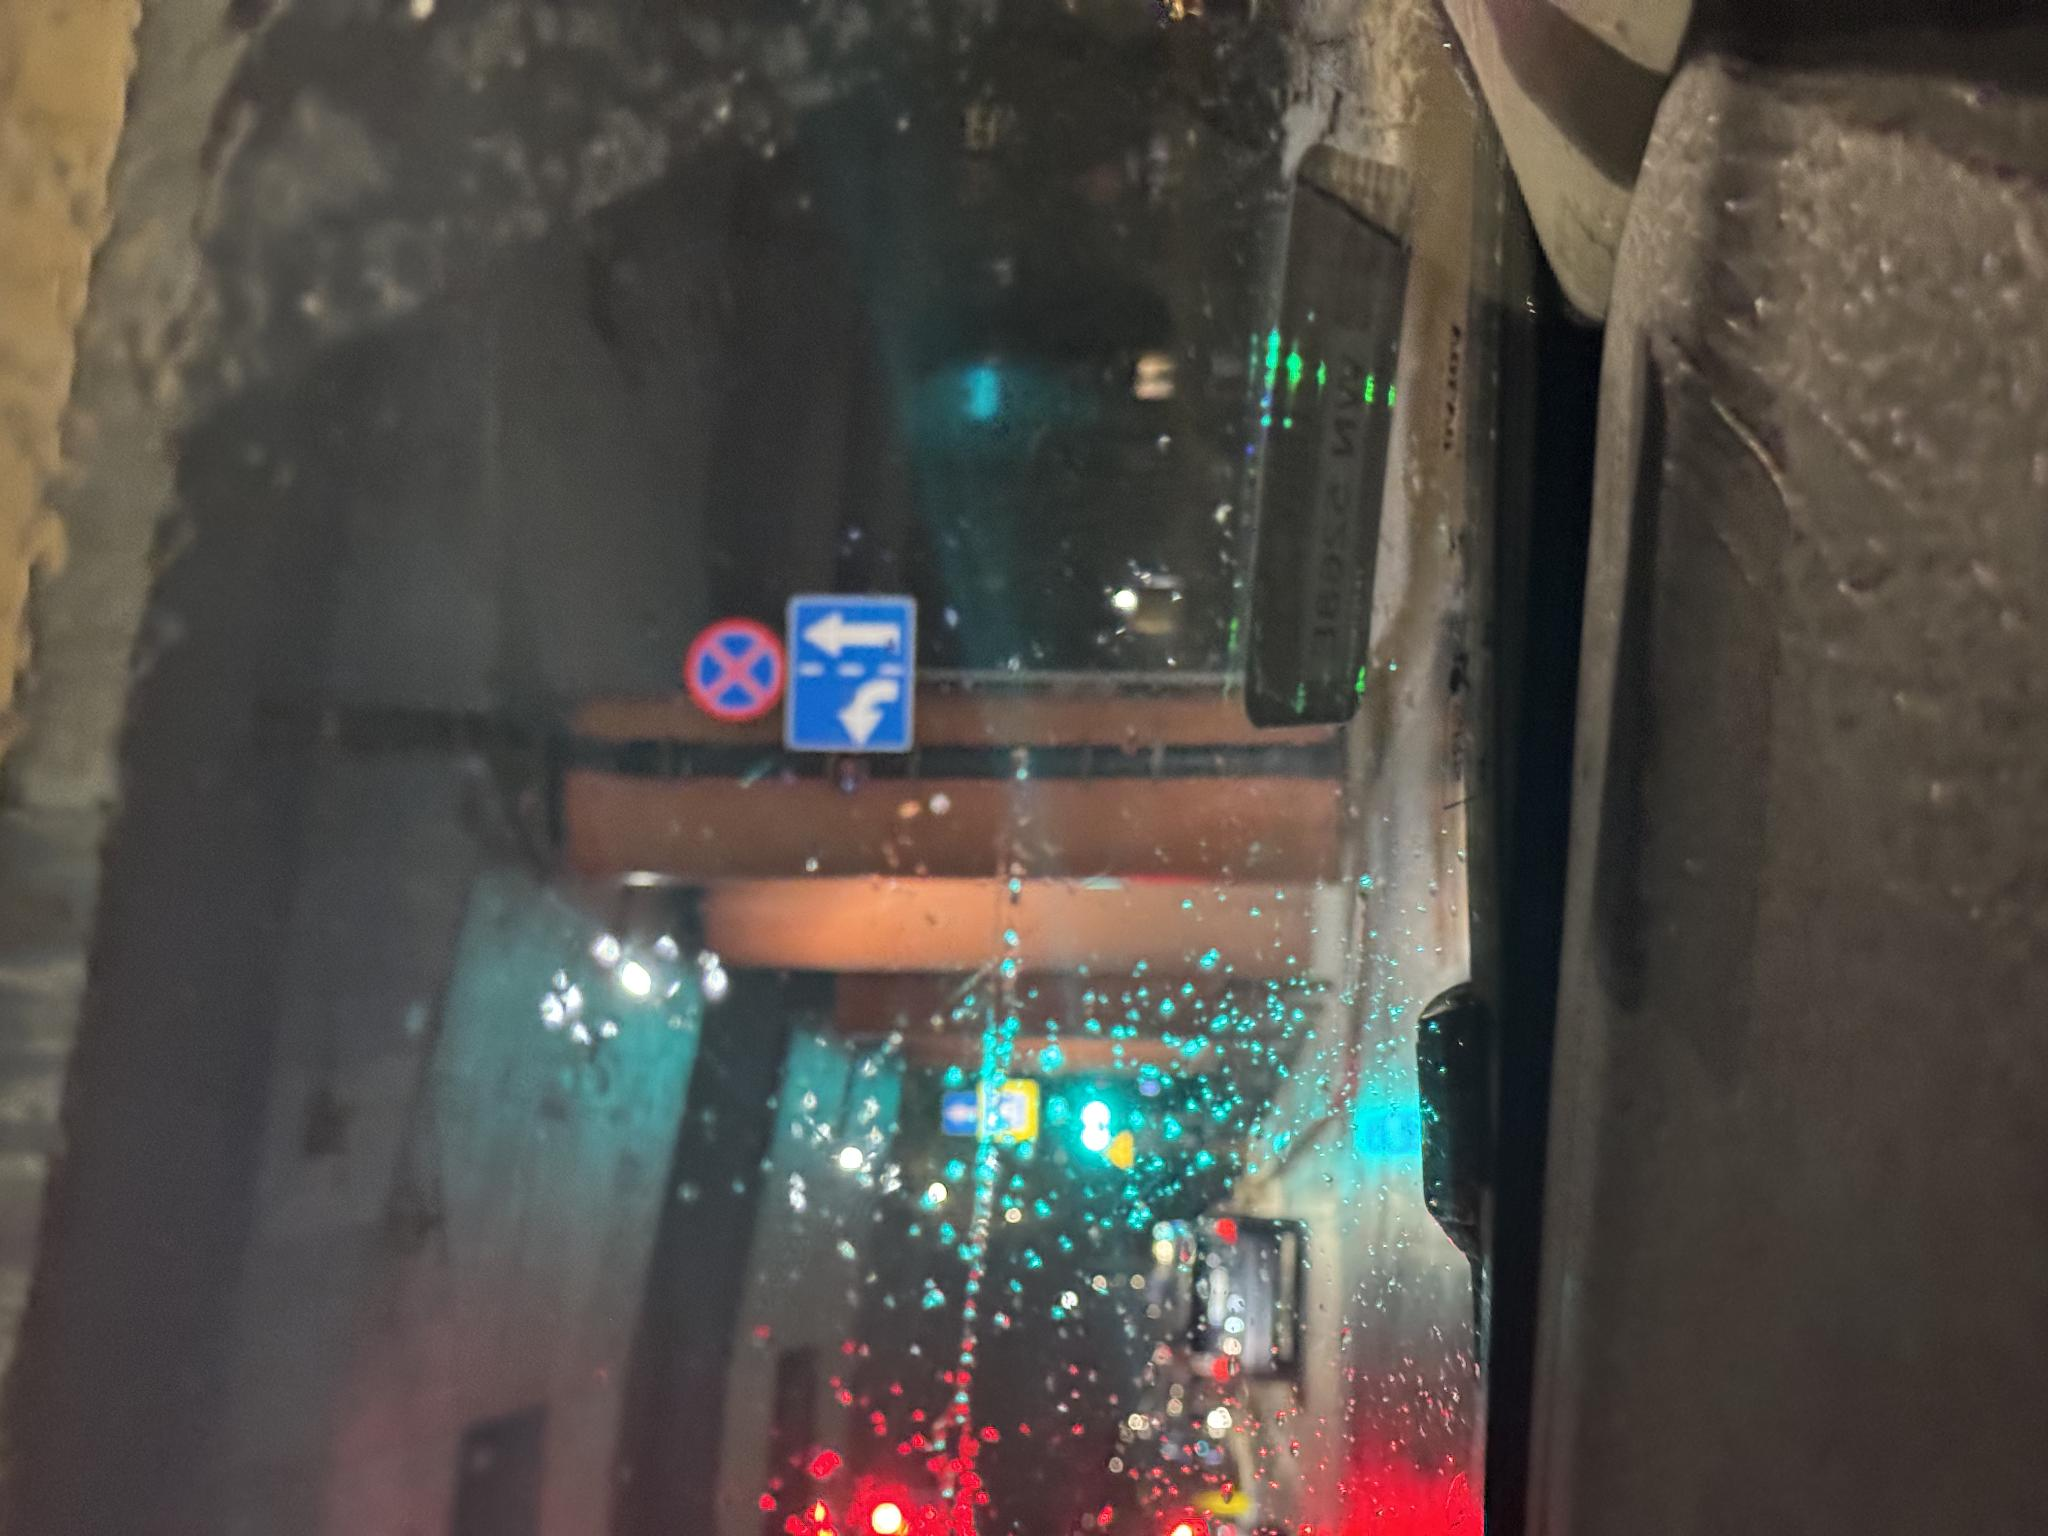other: (780, 784, 943, 920)
prohibitory: (813, 681, 921, 789)
